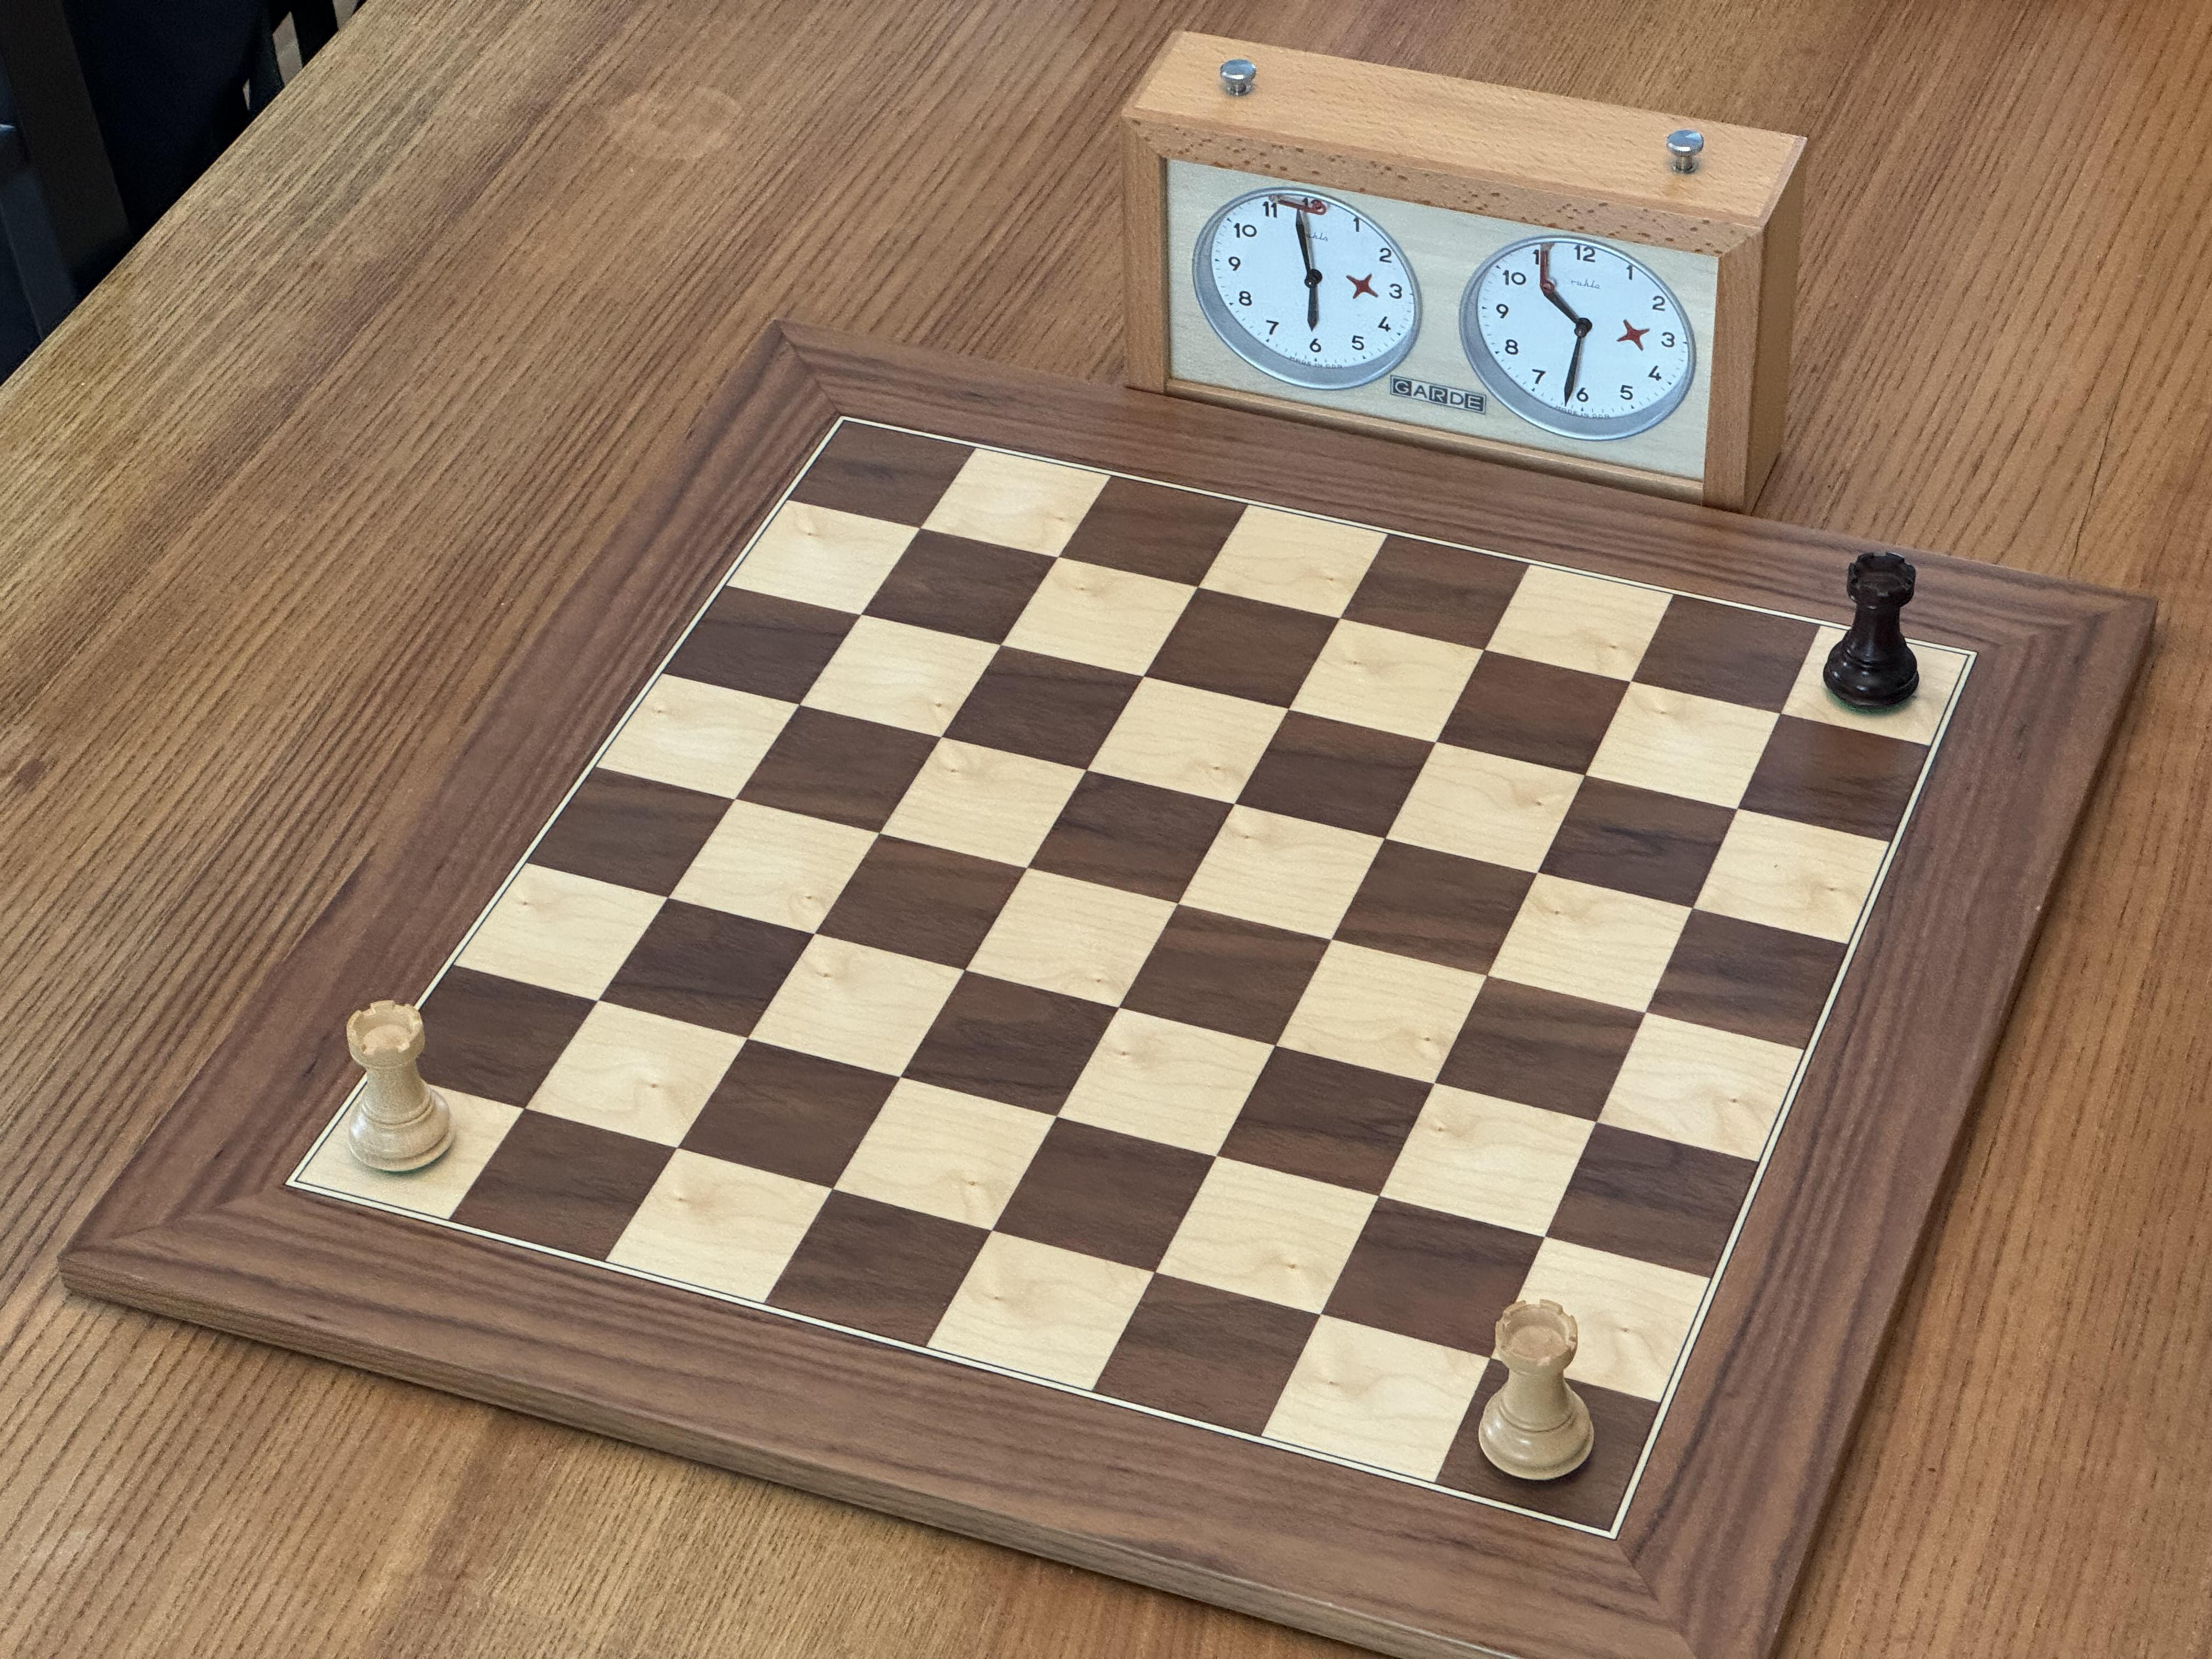corner A: (202, 1101, 371, 1269)
corner B: (1517, 1445, 1703, 1631)
corner C: (1886, 577, 2050, 739)
